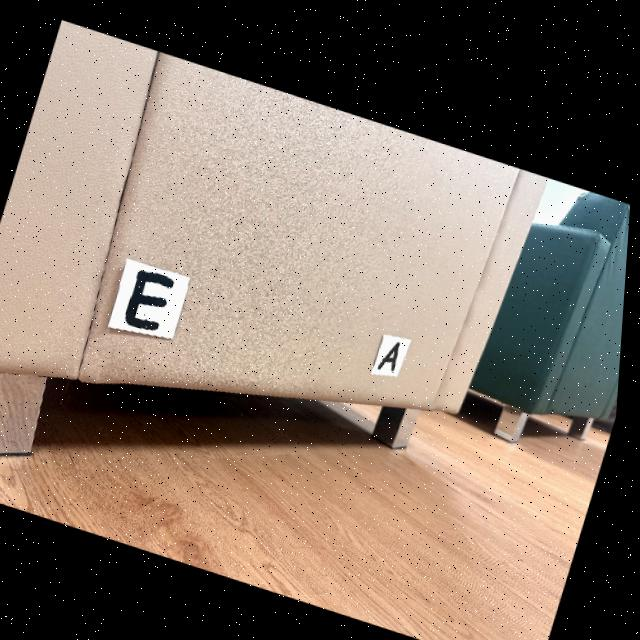A: (383, 334, 405, 363)
E: (129, 267, 177, 327)
